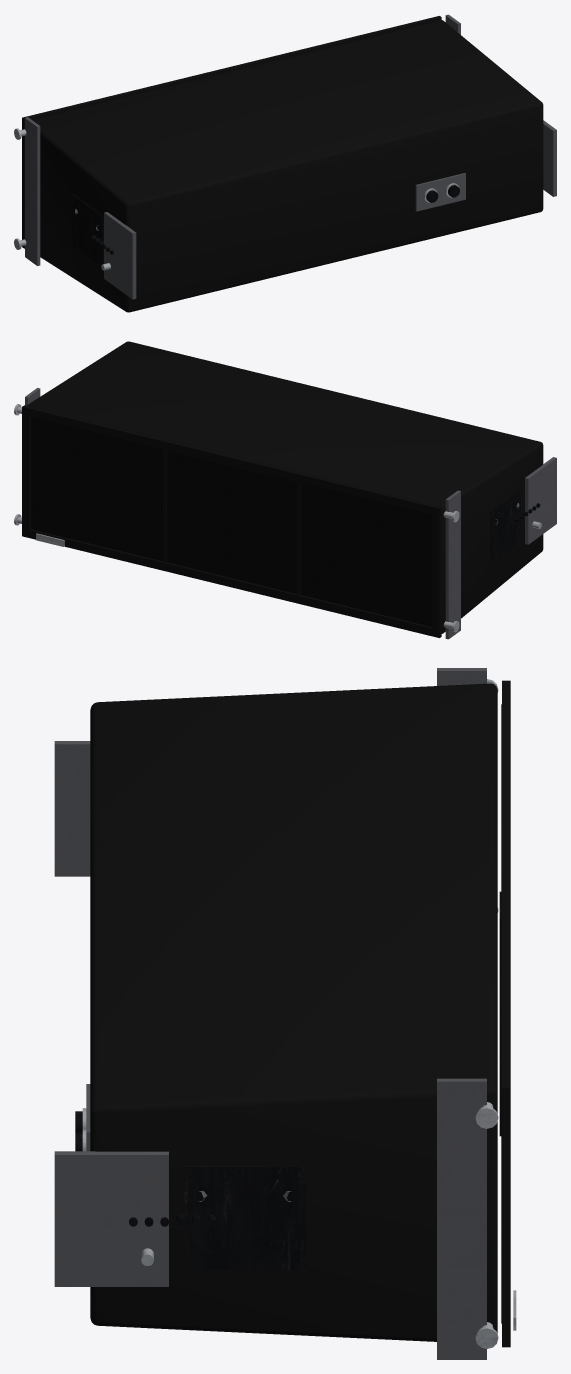
The model's file is line_array_puma.gltf.
3 renders of one model, top to bottom at view 1: azimuth 30°, elevation 25°; view 2: azimuth 150°, elevation 25°; view 3: azimuth 270°, elevation 25°, orthographic. The views are drawn at different scales.
Visible parts, largest first — view 1: line_array_puma; view 2: line_array_puma; view 3: line_array_puma.
Part boxes in pixels (x1=…): line_array_puma: x1=14, y1=14, x2=556, y2=312; line_array_puma: x1=14, y1=341, x2=556, y2=639; line_array_puma: x1=54, y1=668, x2=516, y2=1359.
Bounding box in the file's own units: 1.42 × 0.43 × 0.646.
5 materials, 5 textured.
